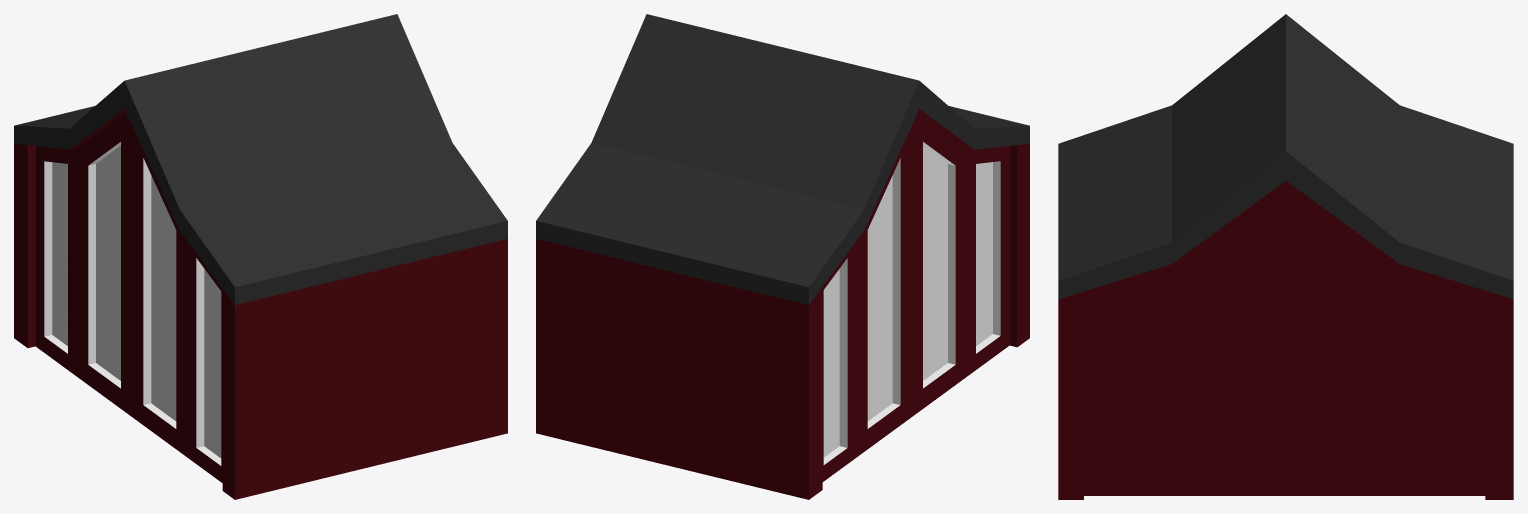
The model's file is RedFloatingBuilding.fbx.
3 views of the same model, side by side, from view 1: azimuth 30°, elevation 25°; view 2: azimuth 150°, elevation 25°; view 3: azimuth 270°, elevation 25° (orthographic). The views are drawn at different scales.
Parts seen in each view (by area): view 1: Cube; view 2: Cube; view 3: Cube.
Boxes of the visible parts, x1,y1,x2,y2 form: Cube: [14, 14, 507, 499]; Cube: [536, 14, 1029, 499]; Cube: [1058, 14, 1513, 499].
Bounding box in the file's own units: 705 × 836 × 988.
